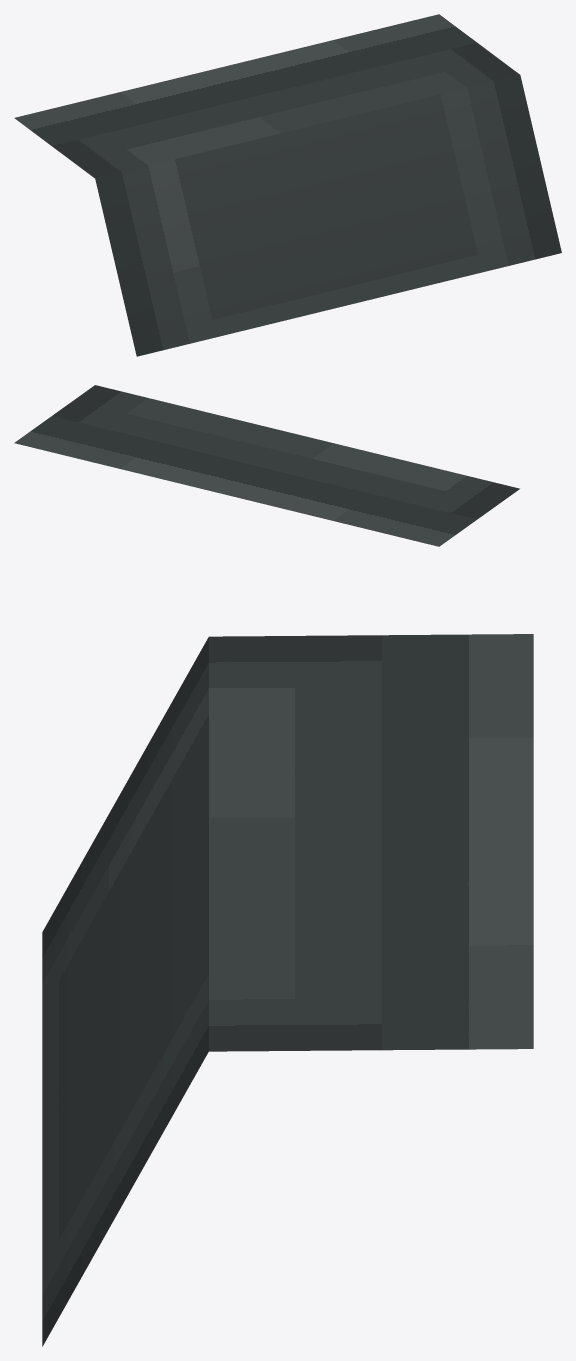
3 views of the same model, one above another, from view 1: azimuth 30°, elevation 25°; view 2: azimuth 150°, elevation 25°; view 3: azimuth 270°, elevation 25° (orthographic). The views are drawn at different scales.
Bounding box in the file's own units: 1 × 0.3348 × 0.5.
1 material, 1 textured.
